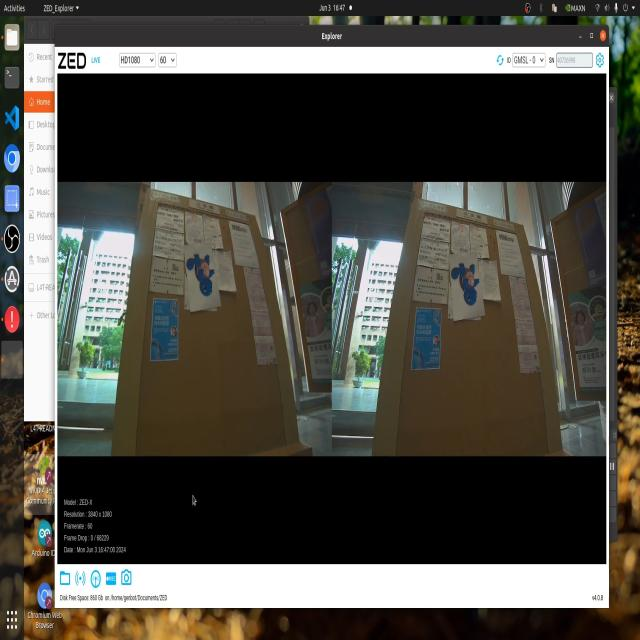blue: (175, 244, 219, 306), (444, 254, 481, 318)
